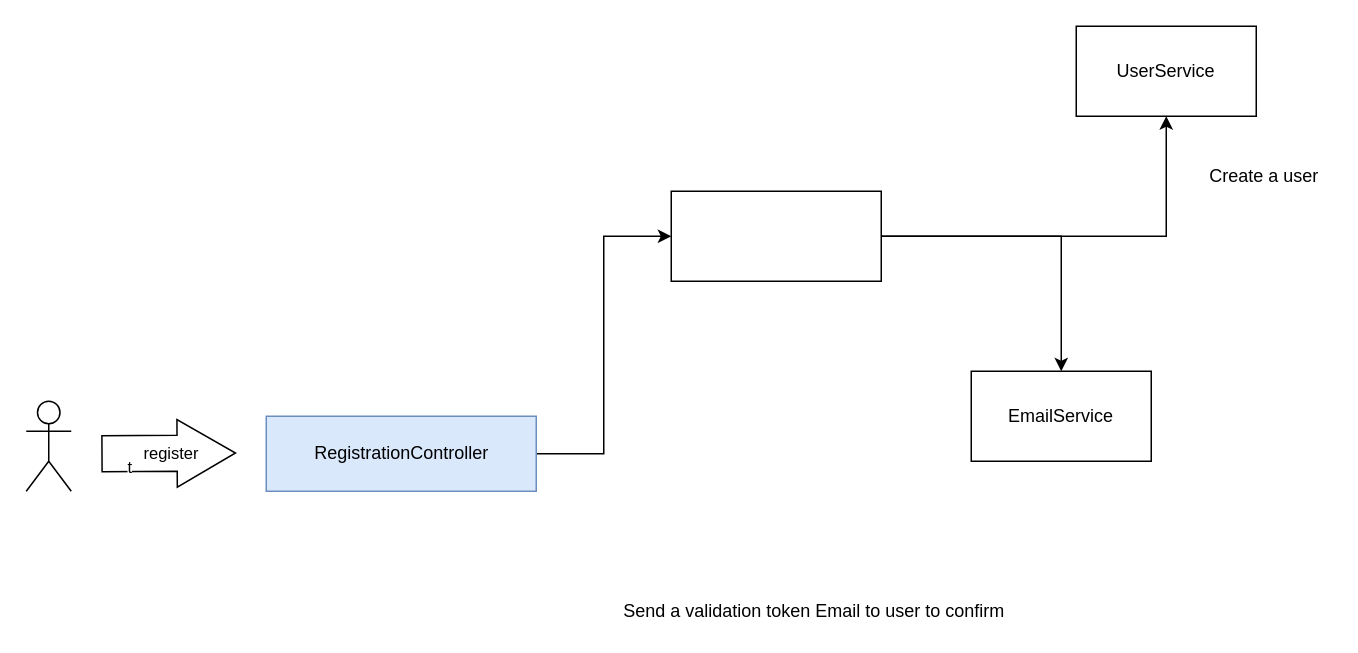
This 1358x653 diagram has some shape labels left out. Each missing label, with the centre of its shape:
RegistrationService: point (775, 235)
User: point (48, 445)
